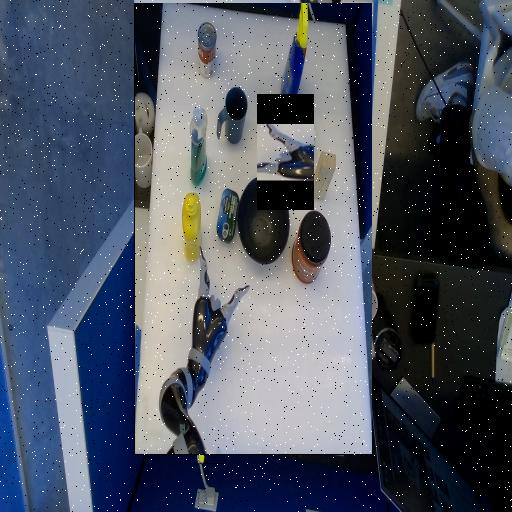bowl: (218, 194, 268, 280)
cleanser: (300, 271, 316, 350)
coffee_can: (175, 190, 214, 229)
jaco: (257, 122, 314, 179)
meat_can: (268, 214, 289, 267)
mug: (259, 313, 289, 369)
mustard_bottle: (305, 219, 324, 238)
rubik: (190, 295, 212, 338)
soup_can: (290, 397, 308, 415)
tennis_ball: (221, 294, 238, 324)
windex: (198, 345, 225, 463)
wooden_block: (170, 268, 195, 293)
workspace: (134, 3, 372, 454)
